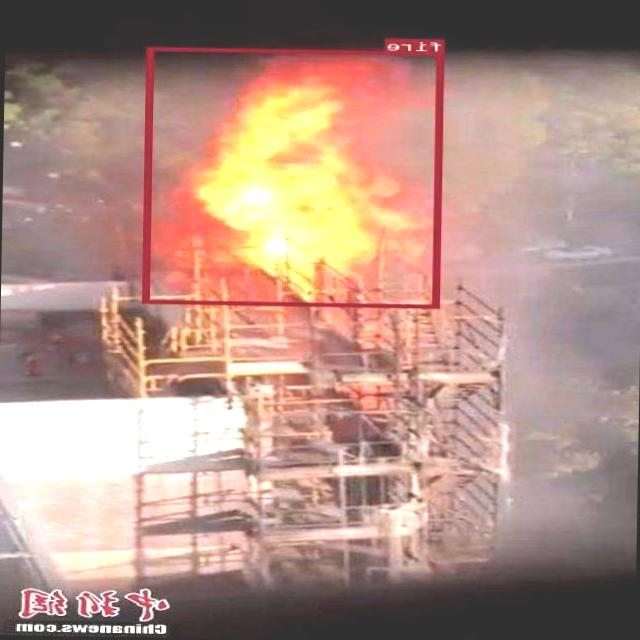fire: (144, 46, 444, 307)
